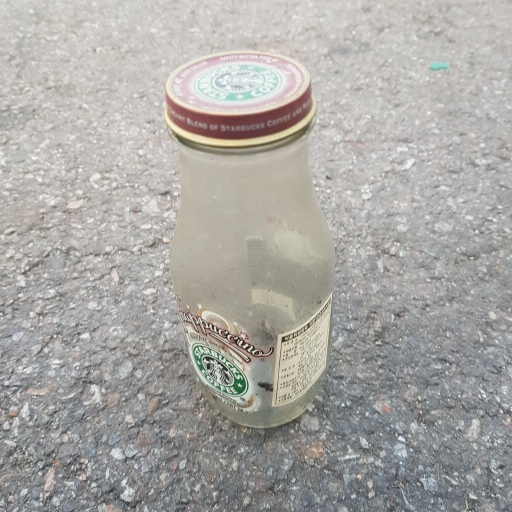Glass_4: (156, 47, 337, 428)
